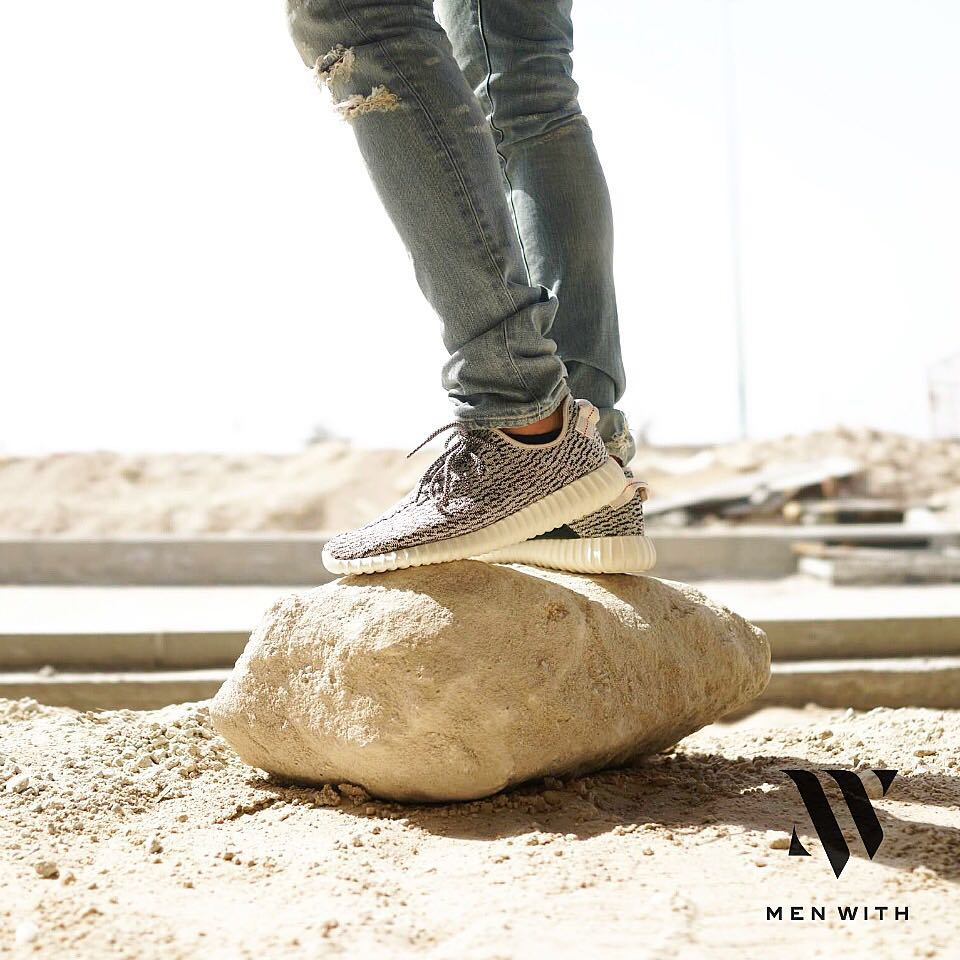sneaker: (308, 359, 640, 607), (479, 404, 670, 586)
